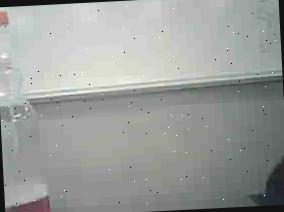hazard: (0, 5, 58, 212)
